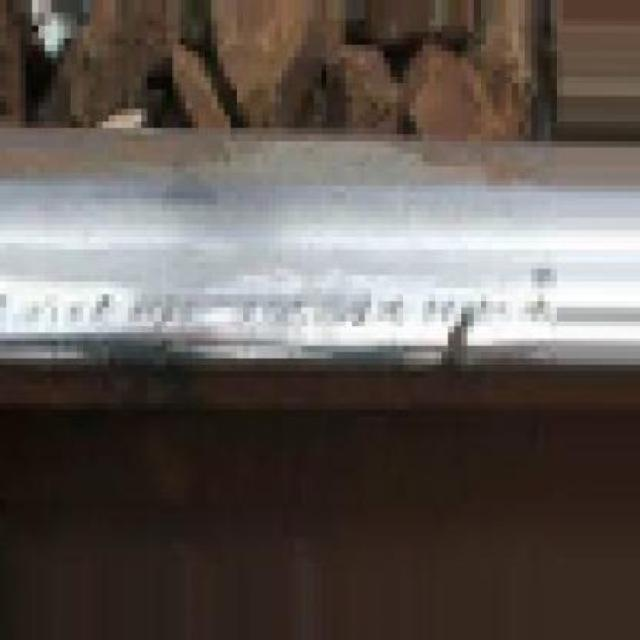defective: (4, 84, 640, 516)
